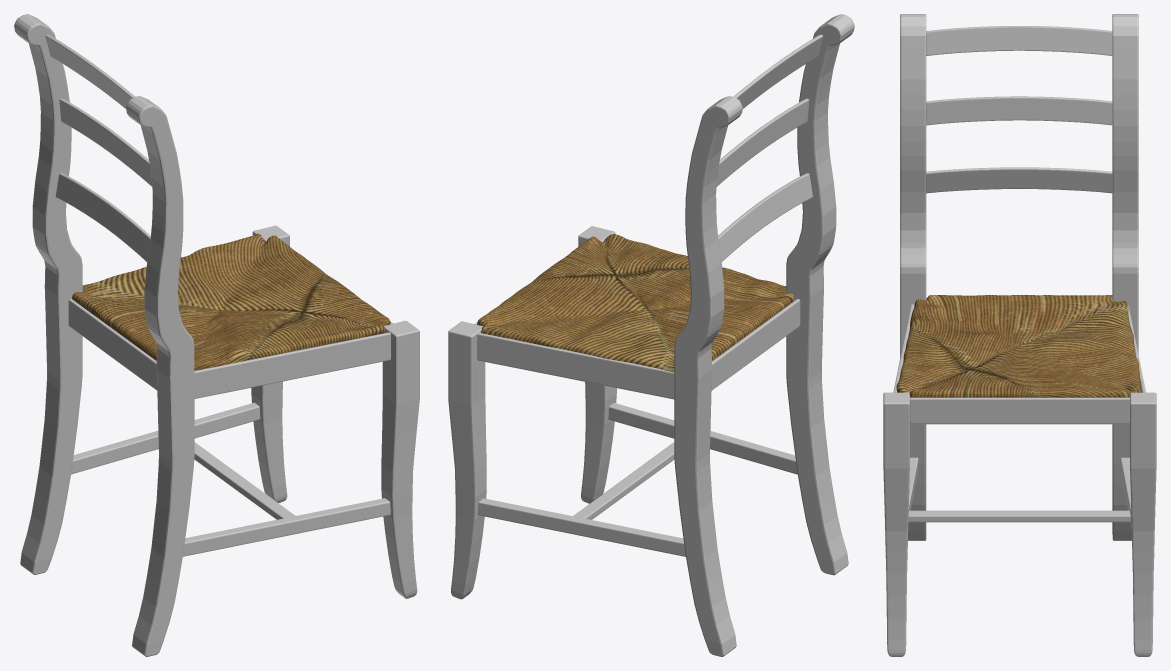
The model's file is Sedia.obj.
The picture shows the model from 3 angles, left to right: view 1: azimuth 30°, elevation 25°; view 2: azimuth 150°, elevation 25°; view 3: azimuth 270°, elevation 25°; orthographic projection. The views are drawn at different scales.
Parts seen in each view (by area): view 1: WoodSedia1; view 2: WoodSedia1; view 3: WoodSedia1.
Boxes of the visible parts, x1,y1,x2,y2 form: WoodSedia1: (14,14,419,656); WoodSedia1: (448,14,854,656); WoodSedia1: (883,14,1156,656).
Size of the model in its own units: 14.63 by 28.28 by 13.39.
